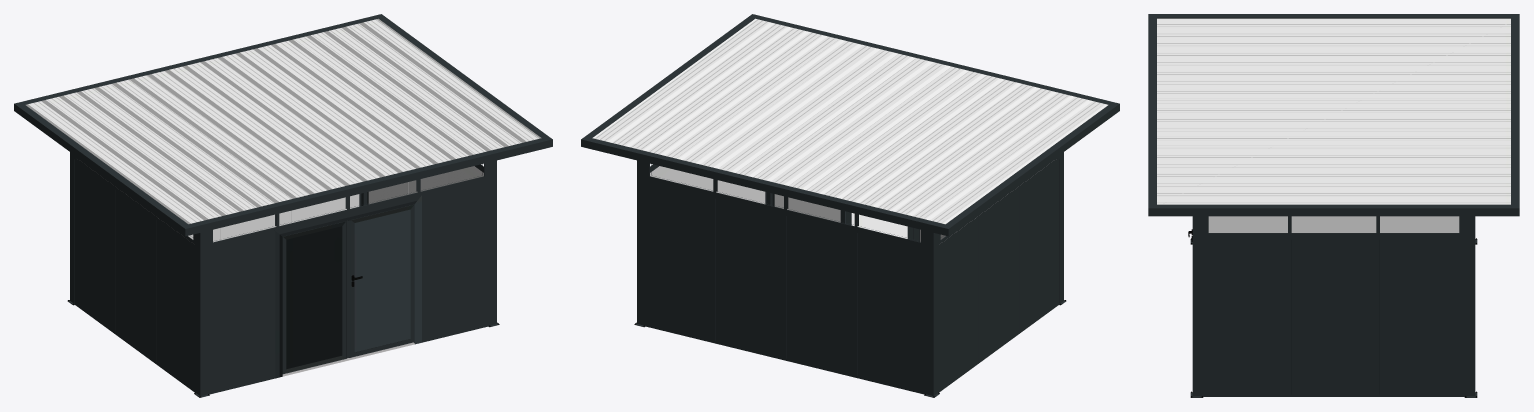
3 renders of one model, left to right at view 1: azimuth 30°, elevation 25°; view 2: azimuth 150°, elevation 25°; view 3: azimuth 270°, elevation 25°, orthographic. The views are drawn at different scales.
Visible parts, largest first — view 1: priximbattable_net_abris_de_jardin_640005_abri_de_jardin_mim, folha, folha_2, porta_avec_hublot; view 2: priximbattable_net_abris_de_jardin_640005_abri_de_jardin_mim, folha_2; view 3: priximbattable_net_abris_de_jardin_640005_abri_de_jardin_mim.
Boxes of the visible parts, x1,y1,x2,y2 form: priximbattable_net_abris_de_jardin_640005_abri_de_jardin_mim: [14, 14, 552, 397]; folha: [282, 220, 350, 374]; folha_2: [347, 204, 414, 357]; porta_avec_hublot: [275, 195, 421, 378]; priximbattable_net_abris_de_jardin_640005_abri_de_jardin_mim: [581, 14, 1119, 397]; folha_2: [845, 211, 913, 240]; priximbattable_net_abris_de_jardin_640005_abri_de_jardin_mim: [1148, 14, 1519, 397].
Size of the model in its own units: 520 by 259 by 420.
Materials: 1 (1 with a texture image).
